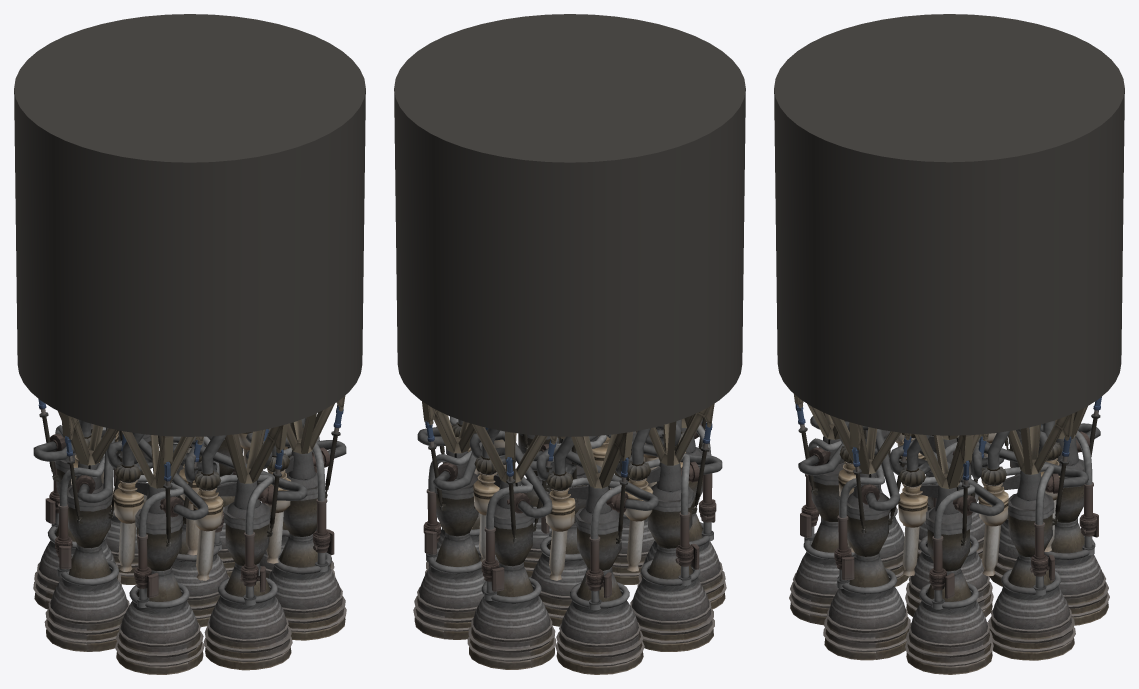
Rendered from engine_merlin_x9.glb.
The picture shows the model from 3 angles, left to right: view 1: azimuth 30°, elevation 25°; view 2: azimuth 150°, elevation 25°; view 3: azimuth 270°, elevation 25°; orthographic projection.
Visible parts, largest first — view 1: engine_merlin_x9_skirt, engine_merlin_x9_engine7, engine_merlin_x9_engine6, engine_merlin_x9_engine5, engine_merlin_x9_engine8, engine_merlin_x9_engine4, engine_merlin_x9_engine, engine_merlin_x9_engine3, engine_merlin_x9_engine2; view 2: engine_merlin_x9_skirt, engine_merlin_x9_engine4, engine_merlin_x9_engine3, engine_merlin_x9_engine5, engine_merlin_x9_engine2, engine_merlin_x9_engine, engine_merlin_x9_engine6, engine_merlin_x9_engine7, engine_merlin_x9_engine8, engine_merlin_x9_engine1; view 3: engine_merlin_x9_skirt, engine_merlin_x9_engine2, engine_merlin_x9_engine1, engine_merlin_x9_engine8, engine_merlin_x9_engine3, engine_merlin_x9_engine7, engine_merlin_x9_engine, engine_merlin_x9_engine6, engine_merlin_x9_engine4, engine_merlin_x9_engine5.
Part boxes in pixels (x1,y1,x2,y2): engine_merlin_x9_skirt: (14,14,365,436); engine_merlin_x9_engine7: (184,424,307,670); engine_merlin_x9_engine6: (106,431,208,674); engine_merlin_x9_engine5: (44,411,129,651); engine_merlin_x9_engine8: (245,396,346,640); engine_merlin_x9_engine4: (33,399,121,609); engine_merlin_x9_engine: (158,435,229,627); engine_merlin_x9_engine3: (105,430,151,584); engine_merlin_x9_engine2: (207,432,252,576); engine_merlin_x9_skirt: (394,14,745,436); engine_merlin_x9_engine4: (536,431,658,674); engine_merlin_x9_engine3: (467,424,557,669); engine_merlin_x9_engine5: (615,403,722,651); engine_merlin_x9_engine2: (413,401,488,639); engine_merlin_x9_engine: (523,434,611,626); engine_merlin_x9_engine6: (637,415,726,609); engine_merlin_x9_engine7: (612,429,660,584); engine_merlin_x9_engine8: (518,433,560,577); engine_merlin_x9_engine1: (417,416,516,574); engine_merlin_x9_skirt: (774,14,1124,435); engine_merlin_x9_engine2: (970,413,1088,660); engine_merlin_x9_engine1: (889,433,1004,674); engine_merlin_x9_engine8: (823,415,911,660); engine_merlin_x9_engine3: (1017,396,1109,625); engine_merlin_x9_engine7: (789,394,854,625); engine_merlin_x9_engine: (898,432,1004,617); engine_merlin_x9_engine6: (810,416,909,586); engine_merlin_x9_engine4: (989,424,1043,586); engine_merlin_x9_engine5: (917,433,996,560).
Bounding box in the file's own units: 3.7 × 6.05 × 3.7.
2 materials, 1 textured.
